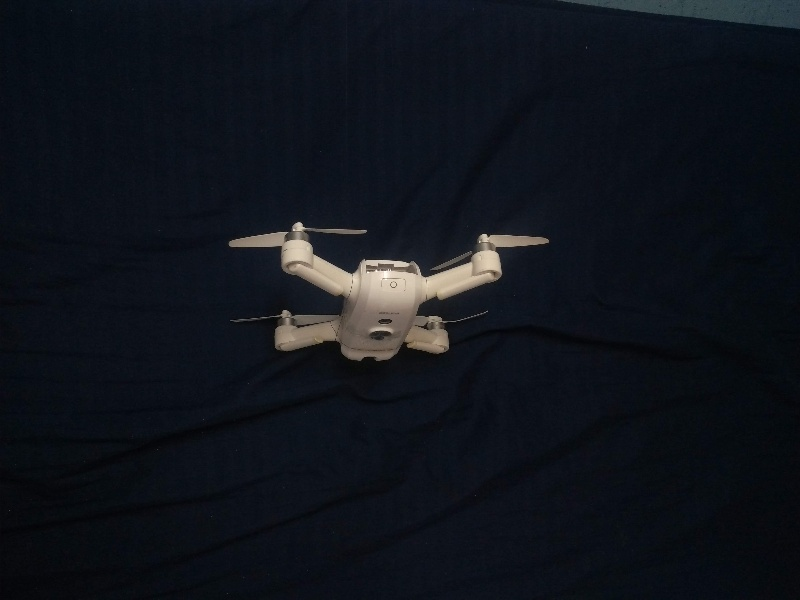drone: (220, 204, 543, 375)
